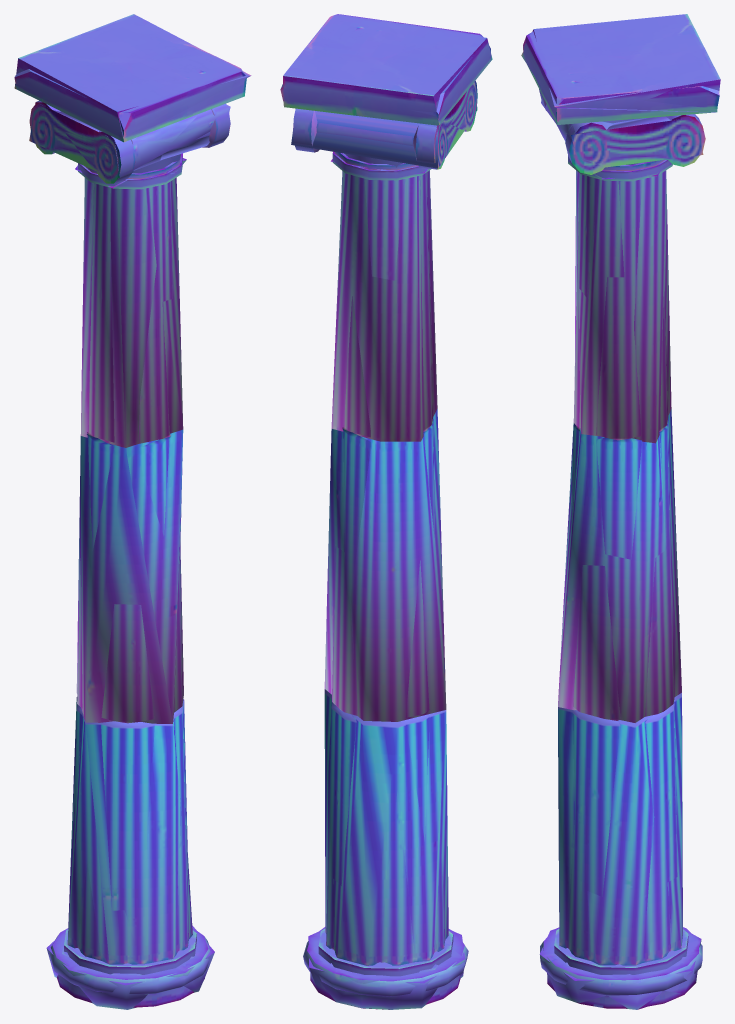
The model's file is Group02_zhuzi05_b.fbx.
The picture shows the model from 3 angles, left to right: view 1: azimuth 30°, elevation 25°; view 2: azimuth 150°, elevation 25°; view 3: azimuth 270°, elevation 25°; orthographic projection.
Parts seen in each view (by area): view 1: Group02_zhuzi05_b_shadow_only, Group02_zhuzi05_b; view 2: Group02_zhuzi05_b_shadow_only, Group02_zhuzi05_b; view 3: Group02_zhuzi05_b_shadow_only, Group02_zhuzi05_b.
Part boxes in pixels (x1,y1,x2,y2): Group02_zhuzi05_b_shadow_only: [14, 14, 251, 1009]; Group02_zhuzi05_b: [14, 43, 246, 1007]; Group02_zhuzi05_b_shadow_only: [283, 16, 492, 1009]; Group02_zhuzi05_b: [280, 14, 490, 1009]; Group02_zhuzi05_b_shadow_only: [521, 14, 720, 1009]; Group02_zhuzi05_b: [523, 31, 719, 1008].
Size of the model in its own units: 1.45 by 7.34 by 1.43.
